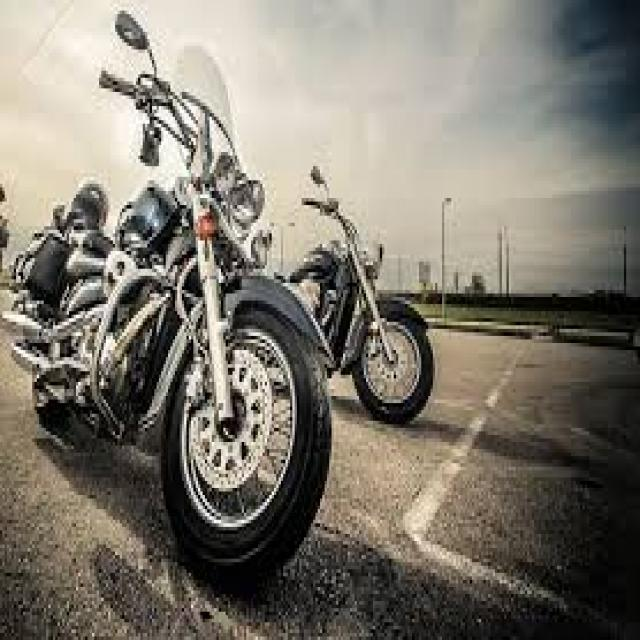Bike: (0, 7, 332, 592), (230, 164, 434, 426)
